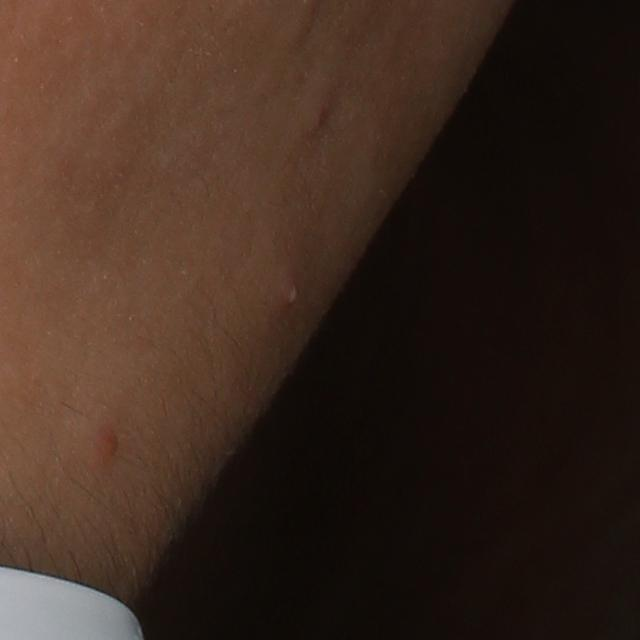papule: (90, 421, 130, 464)
pustule: (276, 264, 306, 314)
